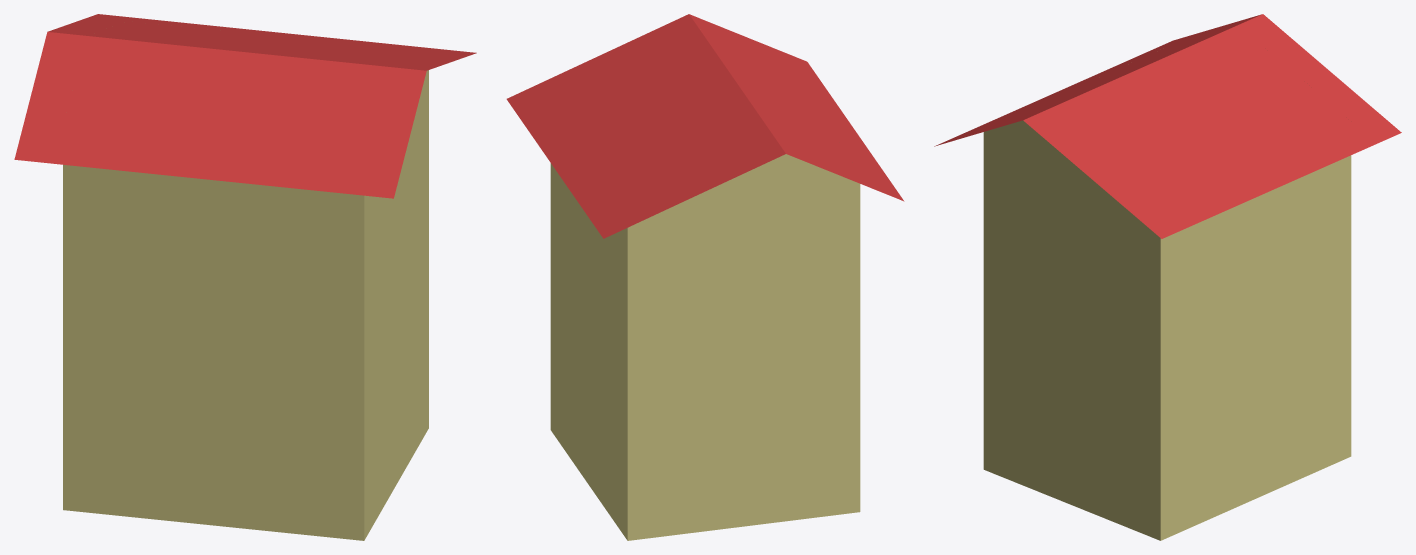
The picture shows the model from 3 angles, left to right: view 1: azimuth 30°, elevation 25°; view 2: azimuth 150°, elevation 25°; view 3: azimuth 270°, elevation 25°; orthographic projection. The views are drawn at different scales.
Parts seen in each view (by area): view 1: group_5, group_3, group_4; view 2: group_5, group_3, group_4; view 3: group_5, group_3, group_4.
Part boxes in pixels (x1=…): group_5: x1=63, y1=70, x2=428, y2=540; group_3: x1=15, y1=14, x2=476, y2=198; group_4: x1=14, y1=14, x2=426, y2=198; group_5: x1=550, y1=154, x2=860, y2=540; group_3: x1=506, y1=14, x2=859, y2=238; group_4: x1=593, y1=14, x2=904, y2=238; group_5: x1=983, y1=120, x2=1351, y2=540; group_3: x1=934, y1=15, x2=1400, y2=238; group_4: x1=938, y1=14, x2=1401, y2=159.
Size of the model in its own units: 13.1 by 13.07 by 11.88.
